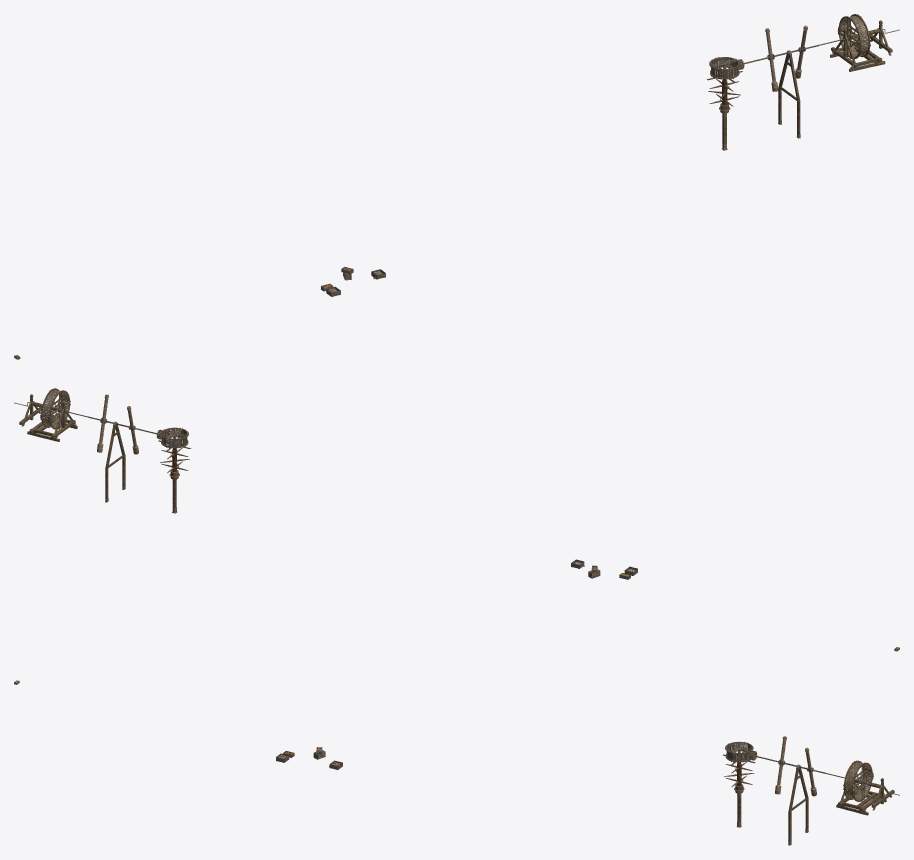
File: enc_int_oto.glb
3 renders of one model, top to bottom at view 1: azimuth 30°, elevation 25°; view 2: azimuth 150°, elevation 25°; view 3: azimuth 330°, elevation 25°, orthographic. The views are drawn at different scales.
Visible parts, largest first — view 1: KB3D_ECI_PropWheel_A_Main, KB3D_ECI_PropWheel_A_GearA; view 2: KB3D_ECI_PropWheel_A_Main, KB3D_ECI_PropWheel_A_GearA; view 3: KB3D_ECI_PropWheel_A_Main, KB3D_ECI_PropWheel_A_GearA, KB3D_ECI_PropWheel_A_GearC.
Boxes of the visible parts, x1,y1,x2,y2 form: KB3D_ECI_PropWheel_A_Main: [707, 20, 892, 150]; KB3D_ECI_PropWheel_A_GearA: [837, 14, 870, 58]; KB3D_ECI_PropWheel_A_Main: [19, 394, 190, 513]; KB3D_ECI_PropWheel_A_GearA: [40, 388, 70, 429]; KB3D_ECI_PropWheel_A_Main: [723, 754, 894, 845]; KB3D_ECI_PropWheel_A_GearA: [843, 760, 873, 801]; KB3D_ECI_PropWheel_A_GearC: [725, 741, 753, 762].
Bounding box in the file's own units: 80.14 × 8.86 × 10.38.
11 materials, 11 textured.
